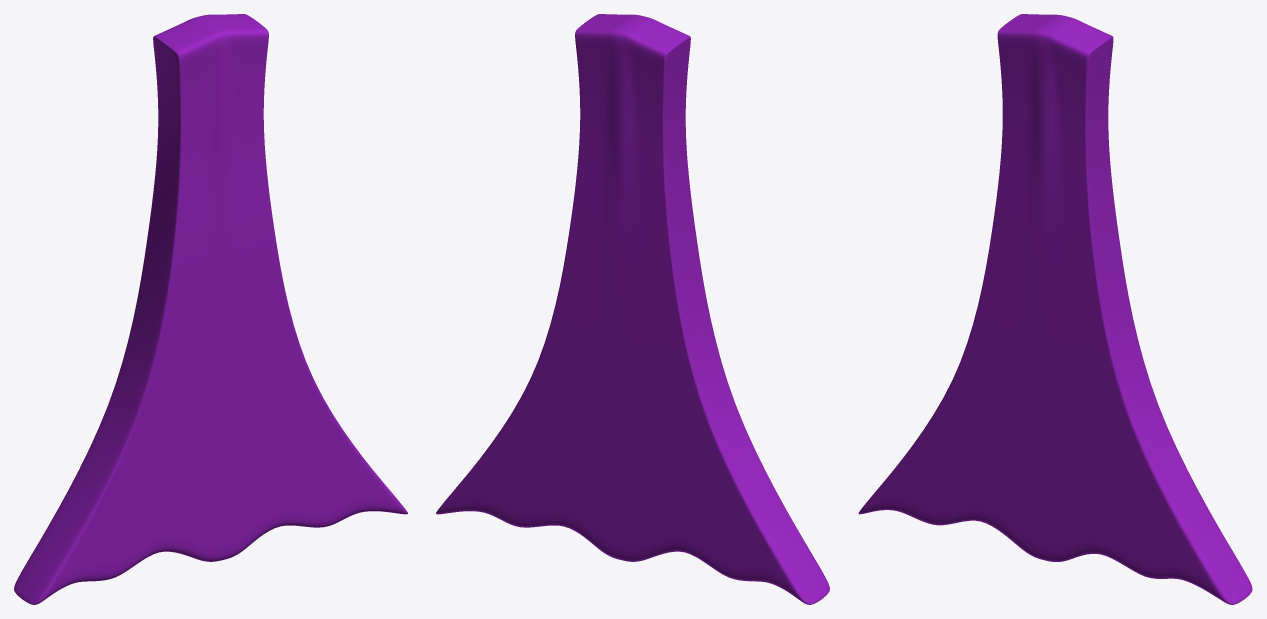
Rendered from femaleBody.dae.
3 views of the same model, side by side, from view 1: azimuth 30°, elevation 25°; view 2: azimuth 150°, elevation 25°; view 3: azimuth 330°, elevation 25° (orthographic).
Parts seen in each view (by area): view 1: Cube; view 2: Cube; view 3: Cube.
Boxes of the visible parts, <box> form: Cube: <box>14,14,407,604</box>; Cube: <box>436,14,829,604</box>; Cube: <box>858,14,1252,604</box>.
Bounding box in the file's own units: 163 × 219 × 20.
